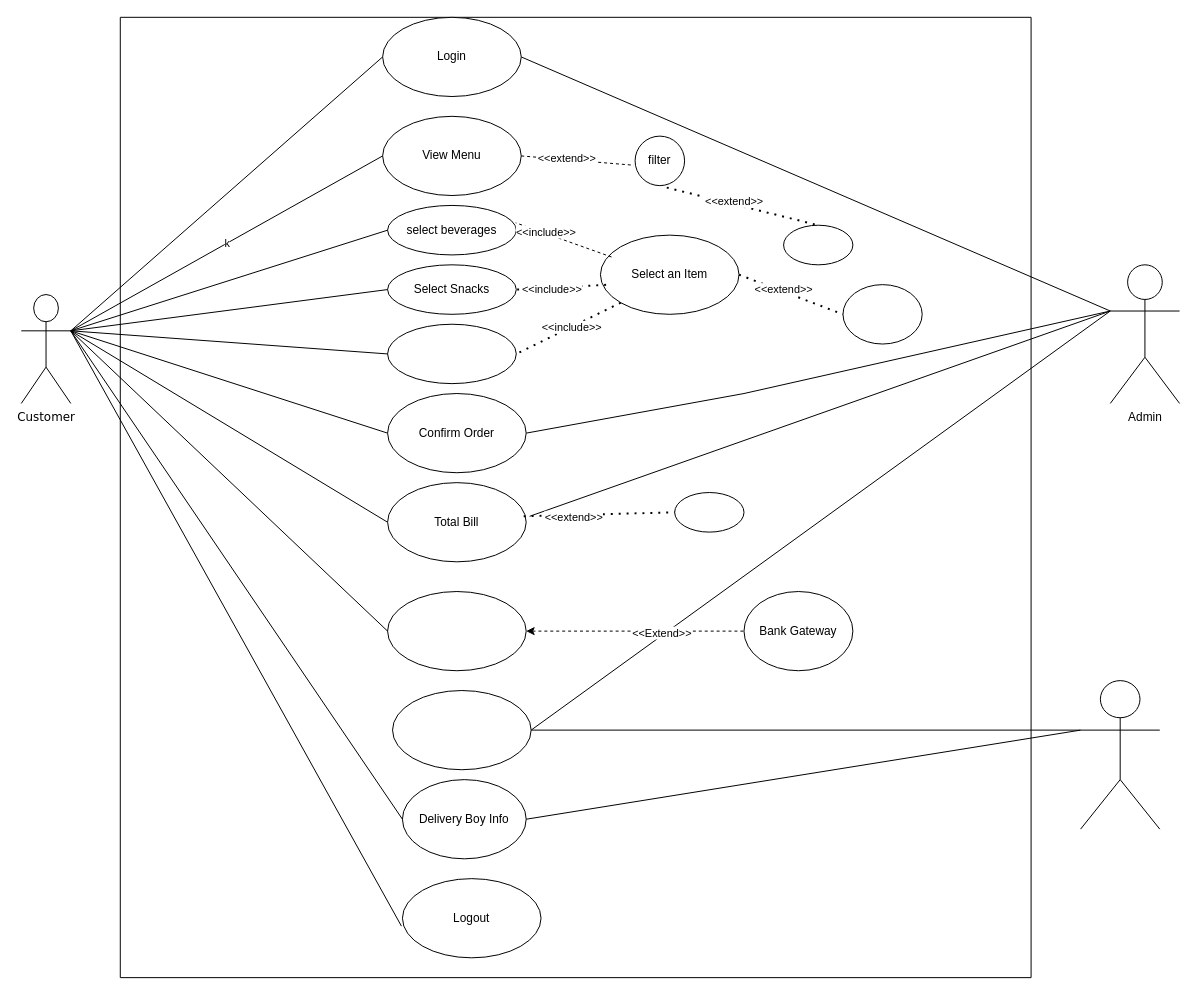
Some shapes in this 1197 by 995 pixel diagram are drawn without their labels. Here are the shapes that lost their labels. From the top down, the centre of each, then its label:
pixel 818 244: veg/nonveg
pixel 882 314: update/remove an item
pixel 451 353: Select Sweets
pixel 709 512: Apply Coupons
pixel 456 631: Payment
pixel 461 730: Deliver Order
pixel 1120 754: Delivery Boy
